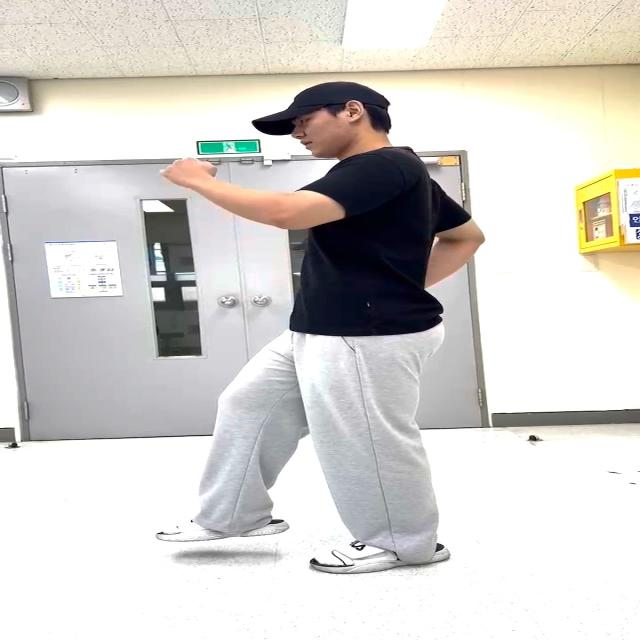leg: (184, 348, 292, 538)
